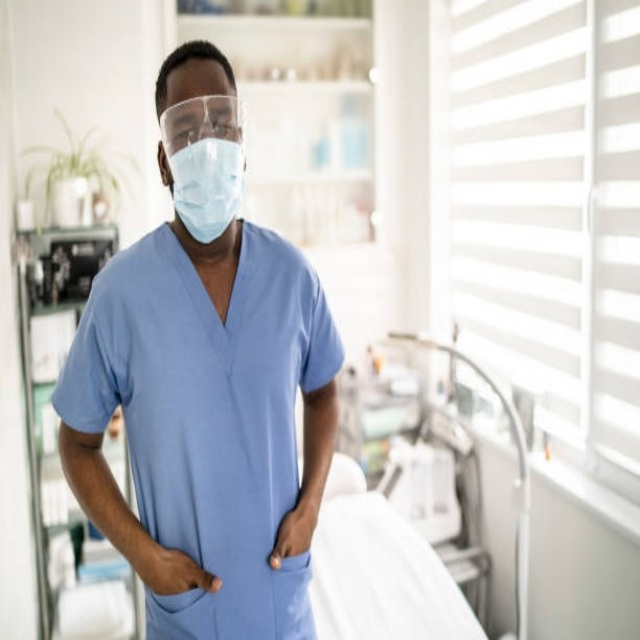Gafas: (159, 93, 245, 151)
Mascara: (166, 133, 244, 242)
Sin_guantes: (138, 538, 224, 601), (267, 499, 313, 569)
